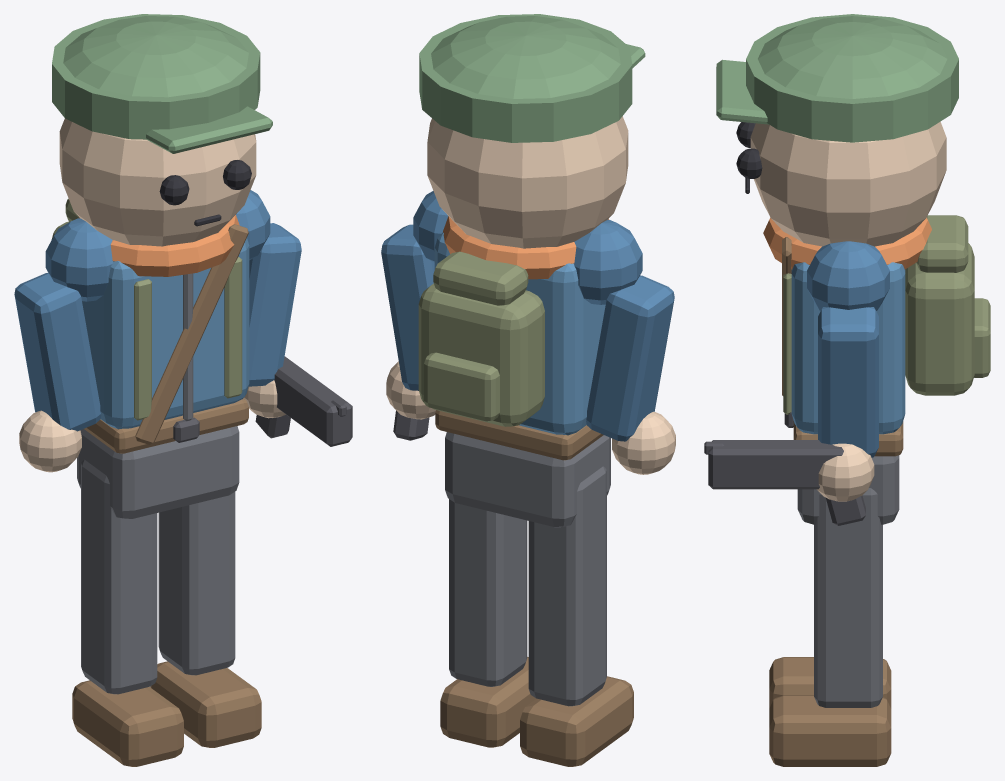
The model's file is PlayerPreview.fbx.
3 views of the same model, side by side, from view 1: azimuth 30°, elevation 25°; view 2: azimuth 150°, elevation 25°; view 3: azimuth 270°, elevation 25° (orthographic). The views are drawn at different scales.
Parts seen in each view (by area): view 1: Head, Leg_L, Torso, Leg_R, CapTop, CapCrown, Hips, Arm_L, Boot_L, Boot_R, Arm_R, Strap (+14 smaller); view 2: Head, Leg_L, Leg_R, CapTop, CapCrown, Backpack, Hips, Arm_L, Torso, Boot_L, Boot_R, Arm_R (+9 smaller); view 3: Head, Leg_R, CapTop, CapCrown, Backpack, Arm_R, Torso, Boot_R, GunBody, Shoulder_R, PackTop, Scarf (+10 smaller).
Part boxes in pixels (box(x1,y1,x2,y2)): Head: box(59, 118, 256, 246); Leg_L: box(81, 459, 157, 694); Torso: box(82, 238, 249, 429); Leg_R: box(158, 492, 235, 675); CapTop: box(63, 16, 248, 97); CapCrown: box(52, 14, 260, 139); Hips: box(77, 426, 239, 519); Arm_L: box(14, 273, 101, 431); Boot_L: box(72, 680, 183, 766); Boot_R: box(150, 661, 261, 747); Arm_R: box(248, 223, 301, 386); Strap: box(135, 224, 248, 444); Head: box(427, 116, 628, 248); Leg_L: box(528, 466, 606, 706); Leg_R: box(449, 499, 527, 686); CapTop: box(431, 16, 620, 98); CapCrown: box(419, 14, 632, 142); Backpack: box(418, 283, 544, 426); Hips: box(445, 432, 610, 527); Arm_L: box(586, 275, 674, 441); Torso: box(434, 232, 605, 435); Boot_L: box(520, 676, 633, 766); Boot_R: box(440, 657, 536, 747); Arm_R: box(381, 224, 434, 390); Head: box(750, 121, 946, 246); Leg_R: box(814, 488, 882, 707); CapTop: box(758, 16, 947, 98); CapCrown: box(746, 14, 958, 142); Backpack: box(905, 243, 974, 395); Arm_R: box(818, 307, 878, 457); Torso: box(791, 262, 905, 434); Boot_R: box(769, 695, 891, 766); GunBody: box(708, 440, 843, 489); Shoulder_R: box(807, 241, 889, 310); PackTop: box(916, 215, 968, 272); Scarf: box(763, 217, 931, 269).
Size of the model in its own units: 0.7896 by 1.91 by 0.705.
